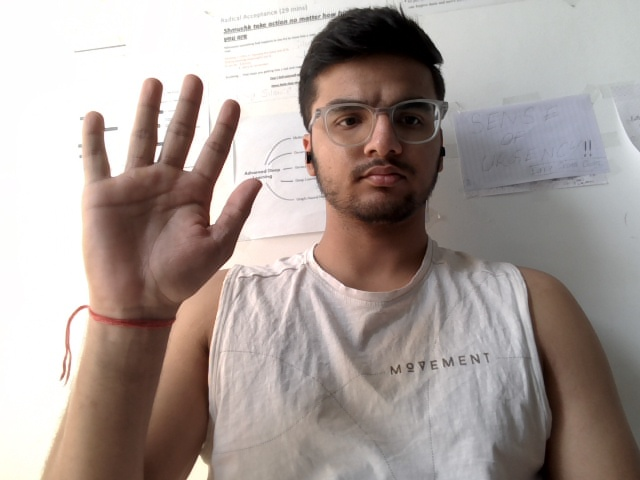Hello: (48, 40, 266, 327)
